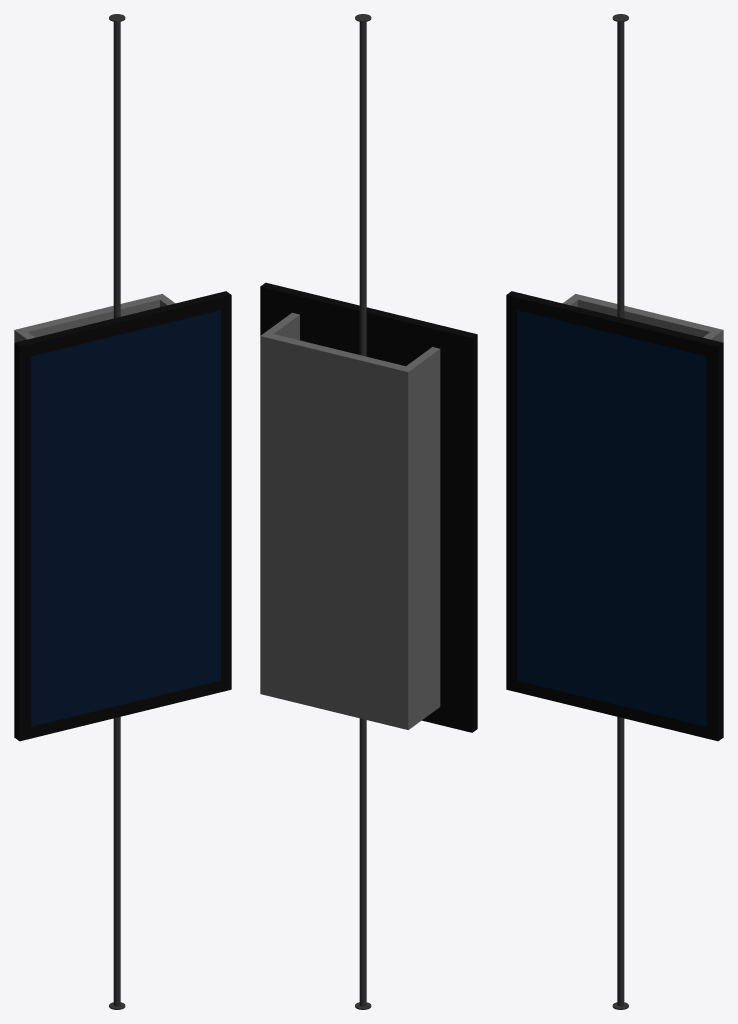
The model's file is HSMC_Display.glb.
3 renders of one model, left to right at view 1: azimuth 30°, elevation 25°; view 2: azimuth 150°, elevation 25°; view 3: azimuth 330°, elevation 25°, orthographic.
Visible parts, largest first — view 1: LCD_Screen, LCD_Body, Pole Main, Shroud_Left, Shroud_Right; view 2: Shroud_Left, LCD_Body, Shroud_Right, Shroud_Flange_L, Pole Main, Shroud_Flange_R; view 3: LCD_Screen, LCD_Body, Pole Main, Shroud_Right, Shroud_Left.
Boxes of the visible parts, bbox=[...] form: LCD_Screen: bbox=[31, 310, 220, 726]; LCD_Body: bbox=[14, 291, 231, 741]; Pole Main: bbox=[113, 22, 120, 1006]; Shroud_Left: bbox=[14, 308, 108, 342]; Shroud_Right: bbox=[76, 294, 167, 319]; Shroud_Left: bbox=[319, 346, 413, 729]; LCD_Body: bbox=[260, 282, 477, 732]; Shroud_Right: bbox=[260, 332, 350, 708]; Shroud_Flange_L: bbox=[406, 347, 440, 725]; Pole Main: bbox=[359, 22, 366, 1006]; Shroud_Flange_R: bbox=[266, 312, 299, 340]; LCD_Screen: bbox=[517, 310, 706, 726]; LCD_Body: bbox=[506, 291, 723, 741]; Pole Main: bbox=[617, 22, 624, 1006]; Shroud_Right: bbox=[629, 308, 723, 342]; Shroud_Left: bbox=[570, 294, 662, 319].
Size of the model in its own units: 5.4 by 24.06 by 1.66.
